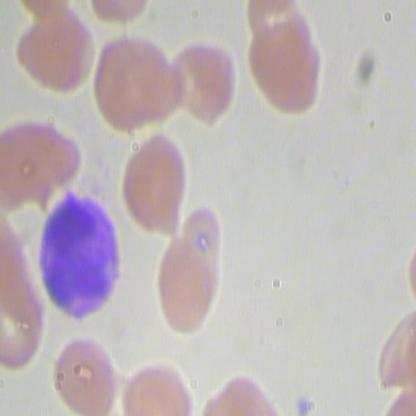Platelets: (289, 394, 318, 415)
RBC: (89, 29, 182, 137), (115, 133, 196, 236), (144, 235, 225, 337), (13, 7, 100, 98), (166, 35, 242, 132), (246, 19, 322, 115), (51, 331, 122, 415)
WBC: (30, 184, 125, 321)
